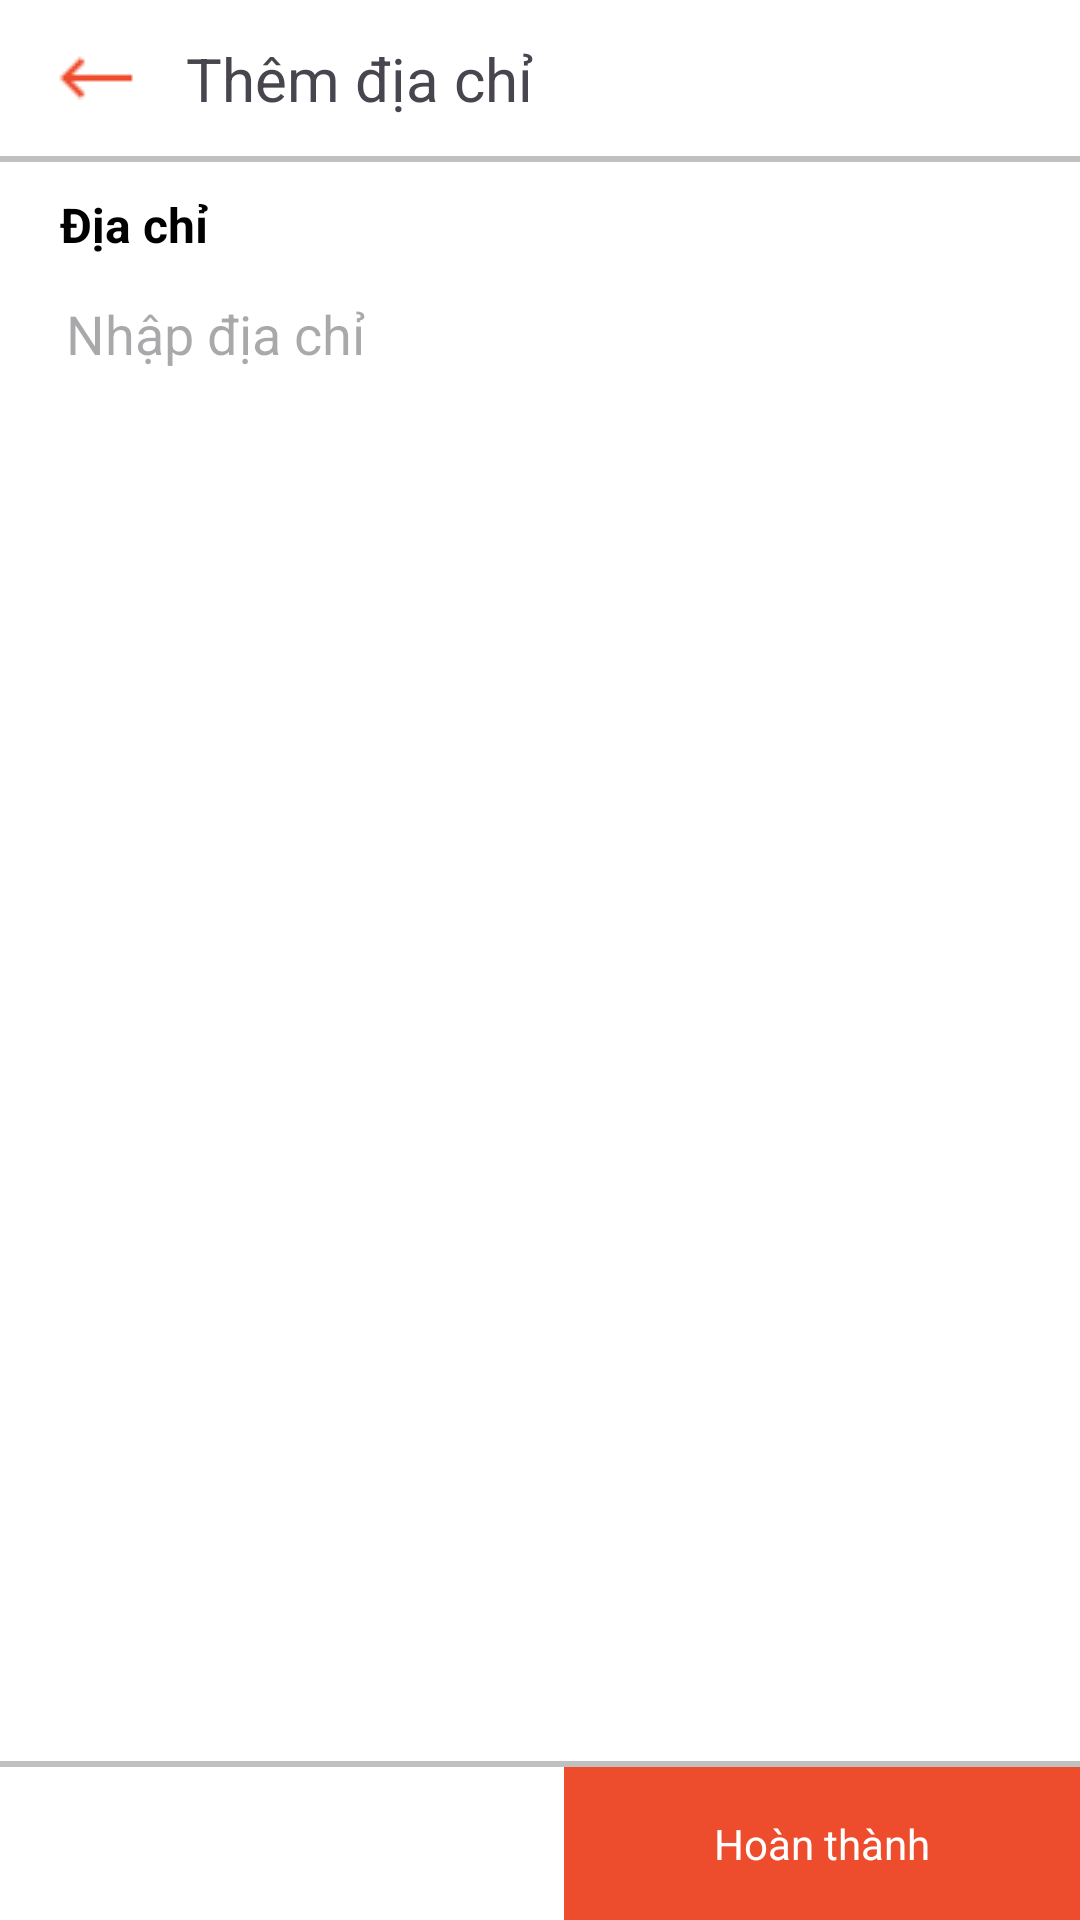

Icons on this 1080w x 1920h Android screen, each with the point to tap as (x=x, y=y):
back arrow: (x=96, y=78)
